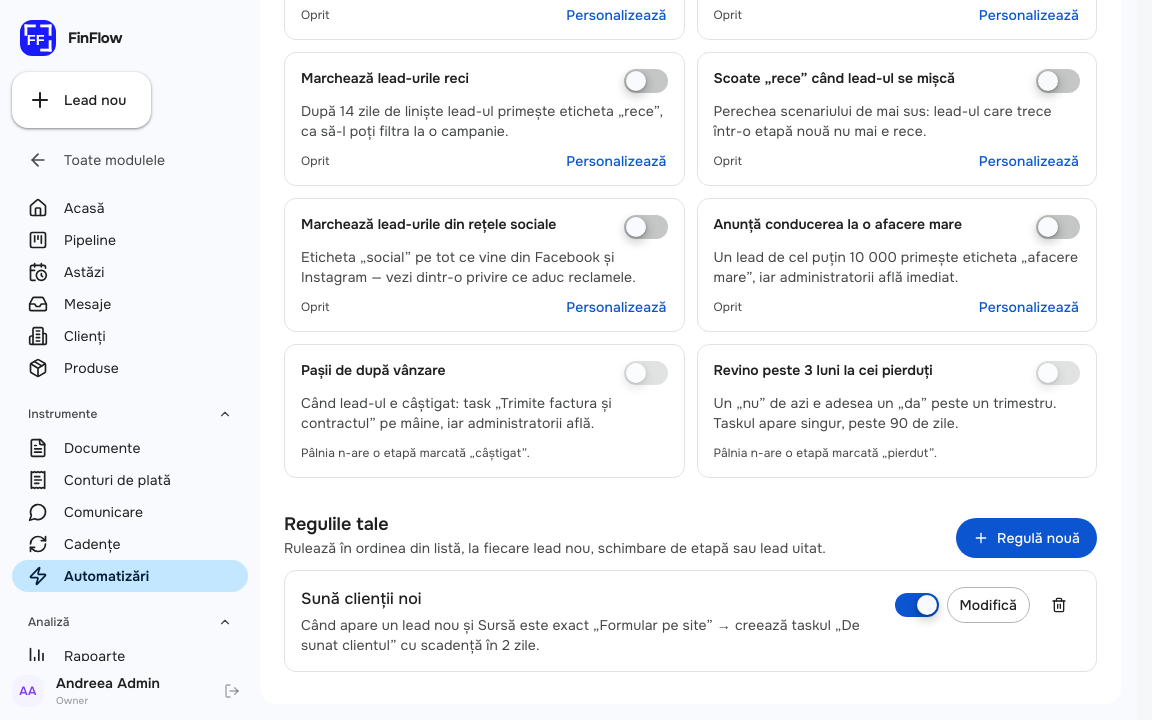
Test: pagina de automatizări › [blocant] comutatorul oprește regula imediat, fără să aștepte serverul
(page scrolled)
Click the switch named "oprește regula sună clienții noi".
click(916, 605)  # box [894,593,938,617]
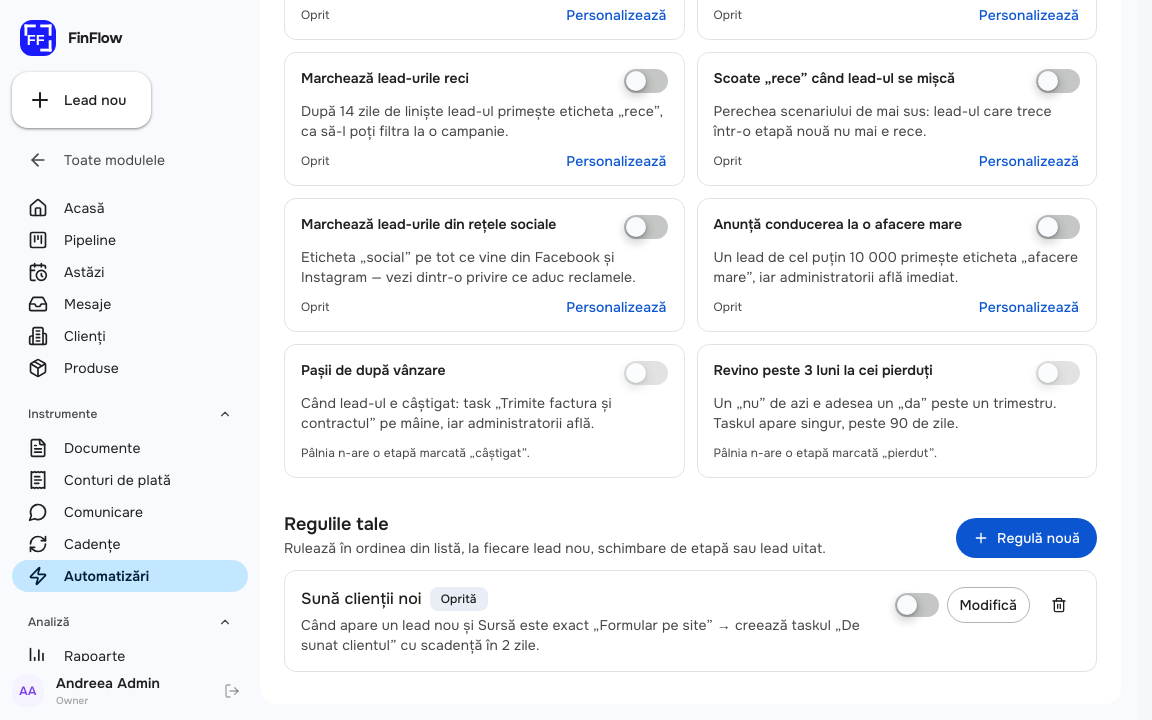
Expected: the text "Oprită" is shown, [430,587,488,611]
